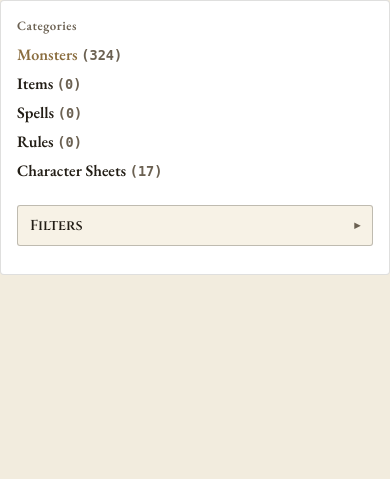
Scenario: Sidebar facets › renders a dropdown with an All option and each facet option label/count, defaulting to All
Click the checkbox "Filters".
click(56, 226)  # box [17, 205, 373, 246]
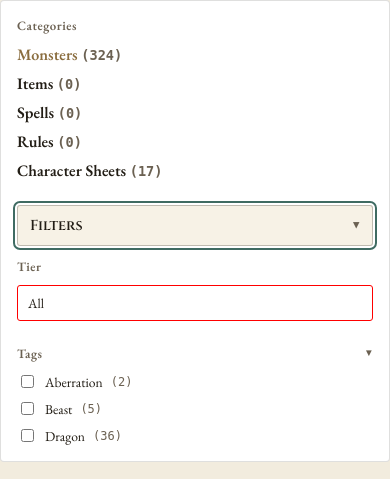
Expected: the dropdown labelled "Tier" shows "All", [17, 285, 373, 321]
